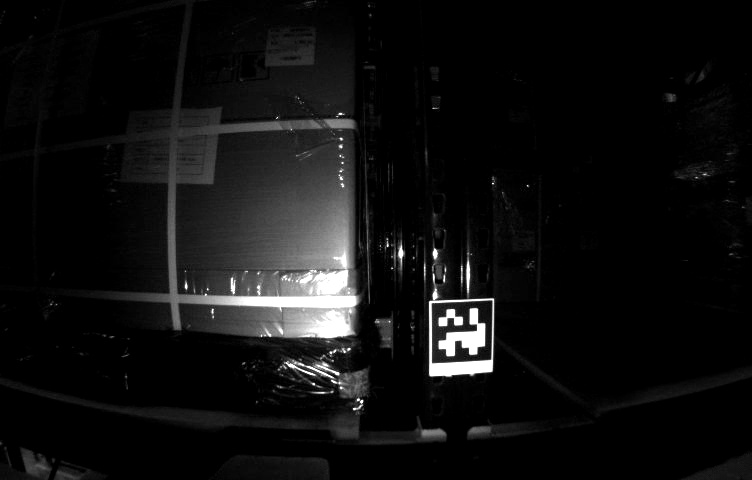True Barcode: (268, 28, 313, 65)
